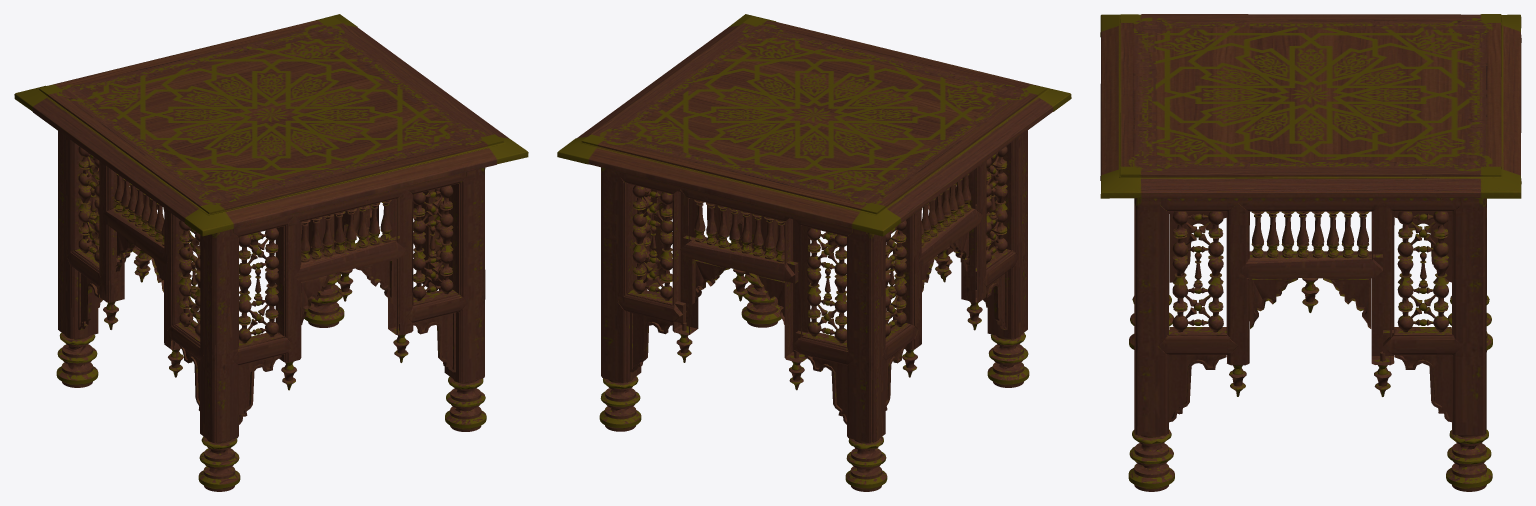
File: egyptian_table.glb
The picture shows the model from 3 angles, left to right: view 1: azimuth 30°, elevation 25°; view 2: azimuth 150°, elevation 25°; view 3: azimuth 270°, elevation 25°; orthographic projection. The views are drawn at different scales.
Visible parts, largest first — view 1: Object_3, Object_4; view 2: Object_3, Object_4; view 3: Object_3, Object_4.
Part boxes in pixels (<box>): Object_3: <box>14,16,528,491</box>; Object_4: <box>16,14,526,488</box>; Object_3: <box>557,16,1071,491</box>; Object_4: <box>559,14,1069,488</box>; Object_3: <box>1100,14,1521,491</box>; Object_4: <box>1101,14,1520,484</box>.
Size of the model in its own units: 23.67 by 20.05 by 23.68.
Materials: 1 (1 with a texture image).
